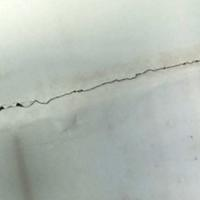crack: (0, 52, 199, 131)
